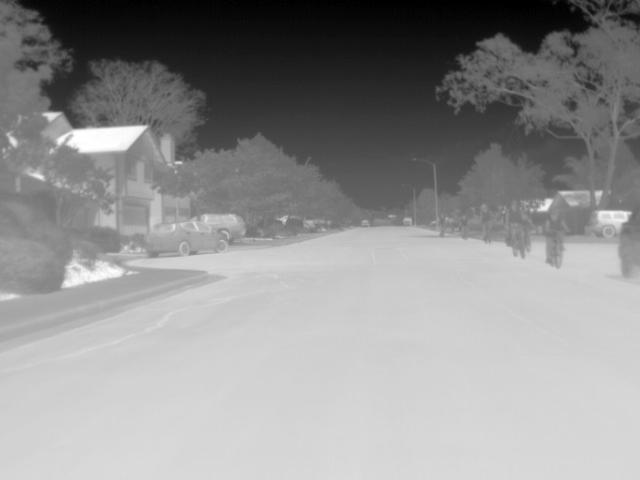car: (143, 218, 229, 259), (195, 210, 248, 245), (617, 204, 639, 284), (587, 209, 636, 238), (402, 216, 415, 228), (358, 215, 371, 227)
person: (546, 209, 573, 262), (505, 200, 534, 246), (479, 203, 496, 237), (457, 206, 471, 234)
